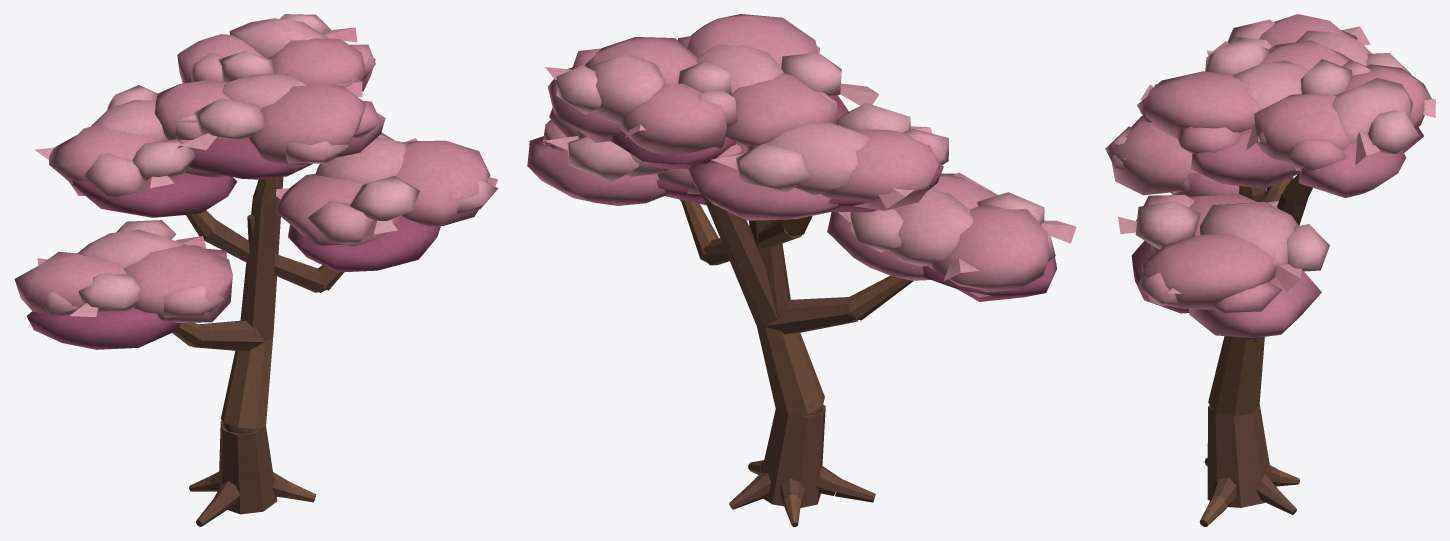
The model's file is Grand_Dojo_Arrival_Blossom.glb.
The picture shows the model from 3 angles, left to right: view 1: azimuth 30°, elevation 25°; view 2: azimuth 150°, elevation 25°; view 3: azimuth 270°, elevation 25°; orthographic projection. The views are drawn at different scales.
Visible parts, largest first — view 1: Grand Dojo Arrival Blossom; view 2: Grand Dojo Arrival Blossom; view 3: Grand Dojo Arrival Blossom.
Part boxes in pixels (x1,y1,x2,y2): Grand Dojo Arrival Blossom: (14, 14, 498, 526); Grand Dojo Arrival Blossom: (527, 14, 1076, 526); Grand Dojo Arrival Blossom: (1105, 14, 1435, 526).
Size of the model in its own units: 12.7 by 11.04 by 7.17.
1 material, 1 textured.
